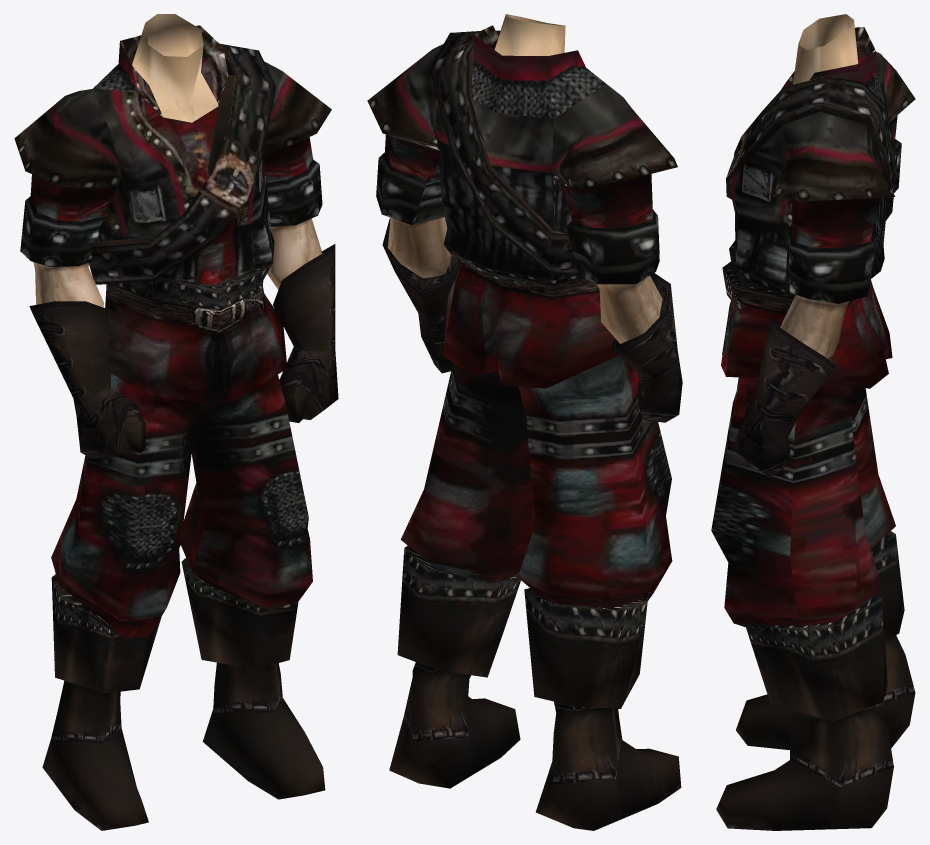
Rendered from ARMOR_SCHATTEN_M_NEW.glb.
The picture shows the model from 3 angles, left to right: view 1: azimuth 30°, elevation 25°; view 2: azimuth 150°, elevation 25°; view 3: azimuth 270°, elevation 25°; orthographic projection. The views are drawn at different scales.
Parts seen in each view (by area): view 1: ARMOR_SCHATTEN_M_NEW; view 2: ARMOR_SCHATTEN_M_NEW; view 3: ARMOR_SCHATTEN_M_NEW.
Boxes of the visible parts, x1,y1,x2,y2 form: ARMOR_SCHATTEN_M_NEW: [14, 14, 338, 830]; ARMOR_SCHATTEN_M_NEW: [367, 14, 682, 830]; ARMOR_SCHATTEN_M_NEW: [711, 14, 915, 830].
Bounding box in the file's own units: 0.6844 × 1.68 × 0.4104.
3 materials, 3 textured.
